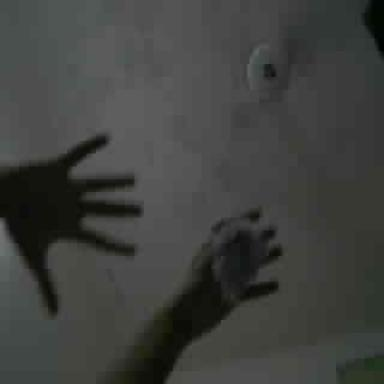paper: (211, 218, 268, 304)
